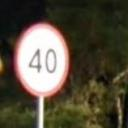speed_limit_40: (14, 23, 70, 98)
